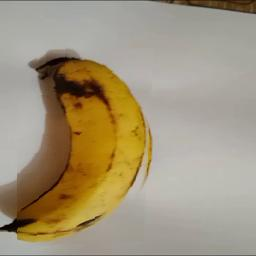Banana Semifresh: (18, 48, 155, 248)
